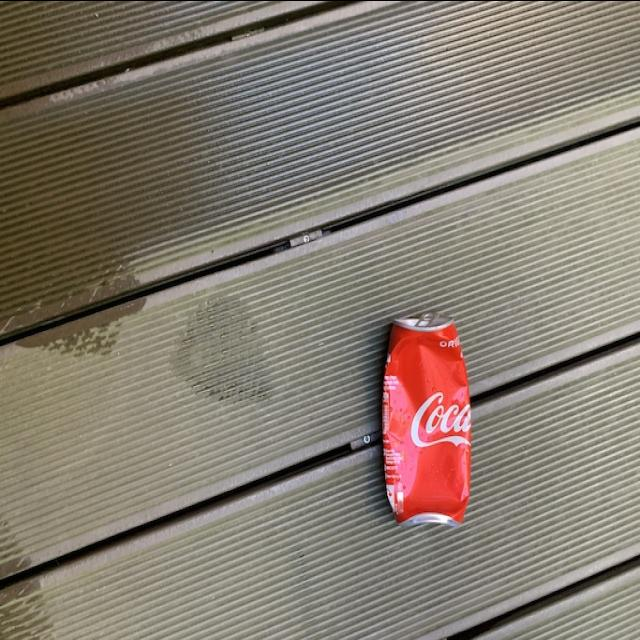litter: (379, 302, 473, 540)
